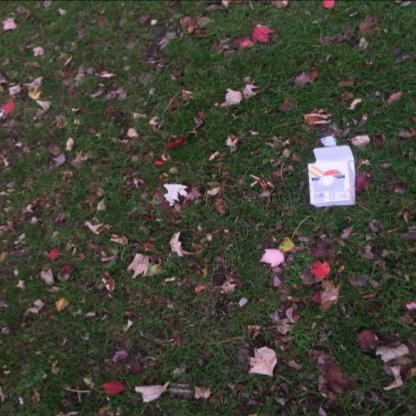Carton: (308, 144, 356, 207)
Plastic bag - wrapper: (320, 135, 338, 147)
